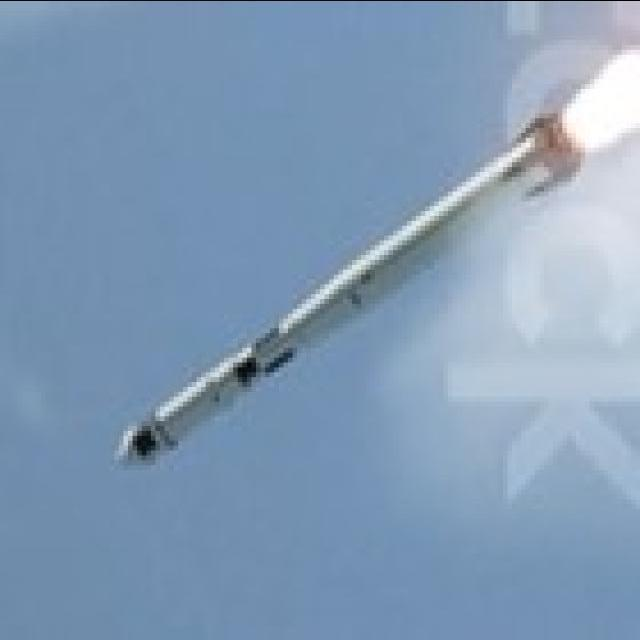Missile: (102, 108, 591, 483)
